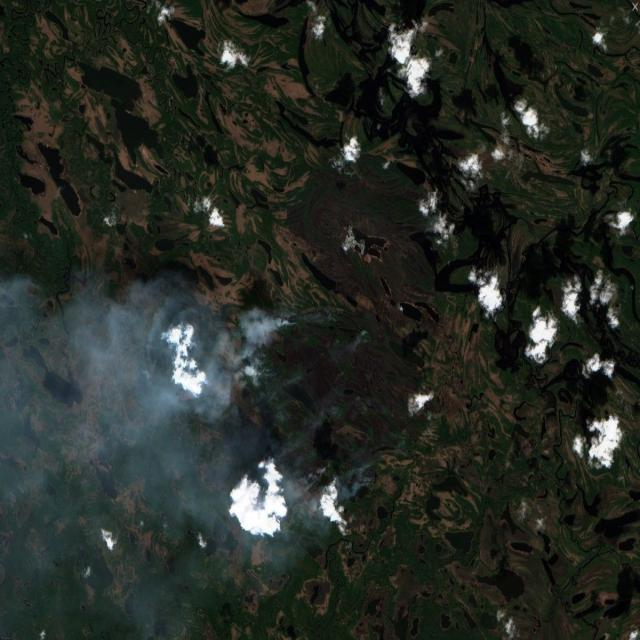fire: (245, 309, 395, 490)
